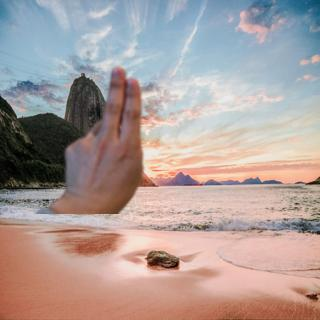DHAVE: (55, 62, 148, 208)
